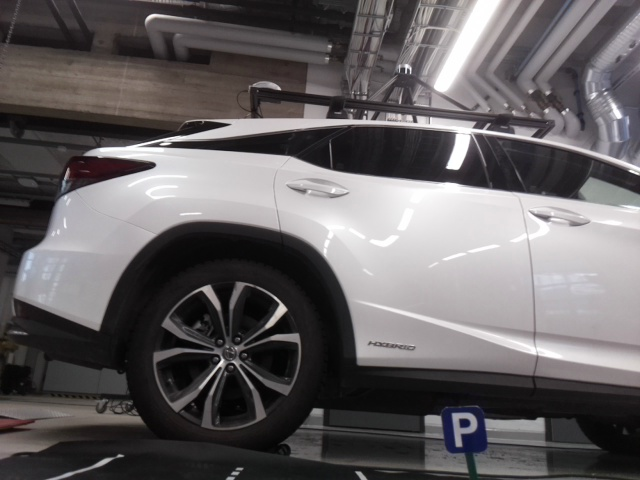Parking: (440, 407, 487, 453)
